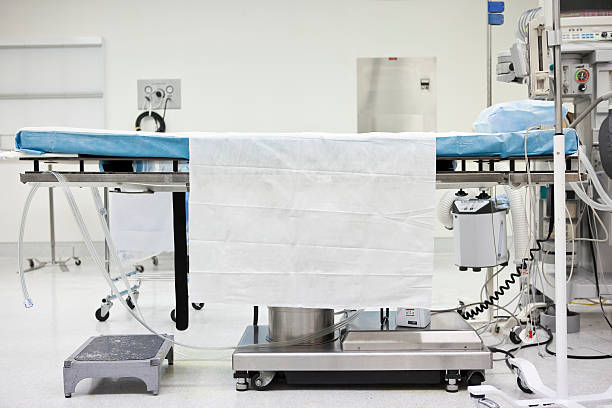breathing_tube: (568, 149, 611, 213)
iv_pole: (485, 1, 507, 106)
operating_bed: (1, 102, 578, 408)
utility_cart: (95, 147, 207, 323)
ventilator: (494, 1, 612, 336)
